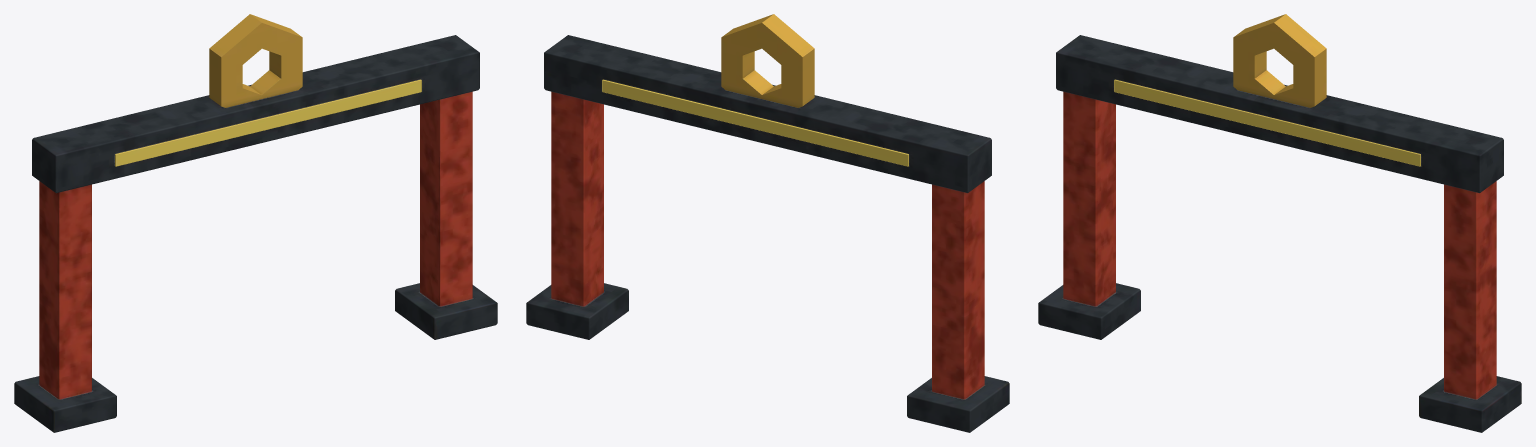
File: goal_arch.glb
3 renders of one model, left to right at view 1: azimuth 30°, elevation 25°; view 2: azimuth 150°, elevation 25°; view 3: azimuth 330°, elevation 25°, orthographic.
Visible parts, largest first — view 1: GoalArch; view 2: GoalArch; view 3: GoalArch.
Part boxes in pixels (left/top/right/bottom): GoalArch: left=14, top=14, right=497, bottom=432; GoalArch: left=526, top=14, right=1009, bottom=432; GoalArch: left=1038, top=14, right=1521, bottom=432.
Bounding box in the file's own units: 9 × 6.7 × 1.4.
1 material, 1 textured.
